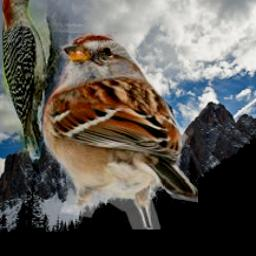Sparrow: (40, 33, 199, 231)
Woodpecker: (2, 0, 68, 169)
